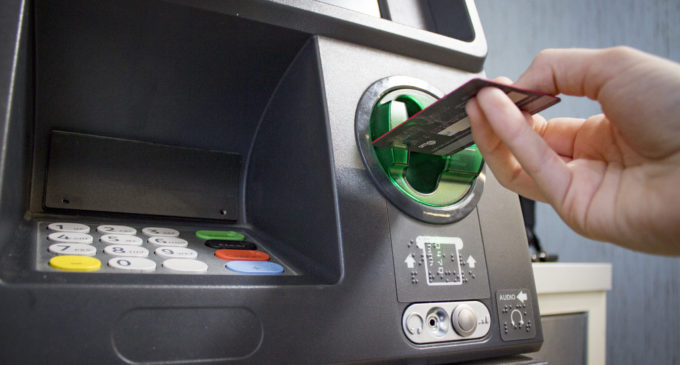tarjeta: (368, 76, 564, 157)
